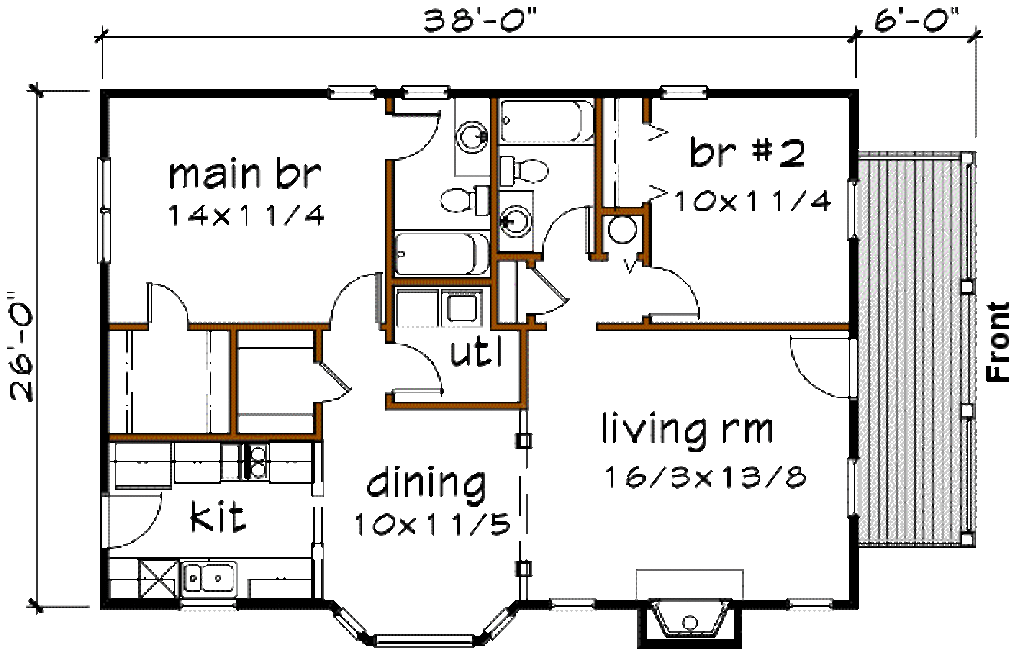door: (783, 328, 859, 398), (94, 491, 168, 559), (382, 336, 452, 395), (326, 269, 390, 329), (383, 111, 451, 164), (514, 258, 575, 315), (647, 261, 703, 318), (138, 280, 199, 331), (537, 204, 590, 258), (309, 356, 359, 412)
large_sink: (491, 149, 556, 189), (434, 180, 492, 217)
small_sink: (497, 185, 538, 251)
tub: (495, 94, 601, 144), (387, 228, 499, 274)
twin_sink: (181, 556, 244, 602)
window: (325, 608, 519, 646), (95, 153, 117, 267), (652, 74, 718, 105), (838, 450, 864, 526), (835, 176, 863, 245), (392, 78, 454, 103), (542, 589, 601, 612), (786, 590, 839, 615), (329, 80, 378, 100)
